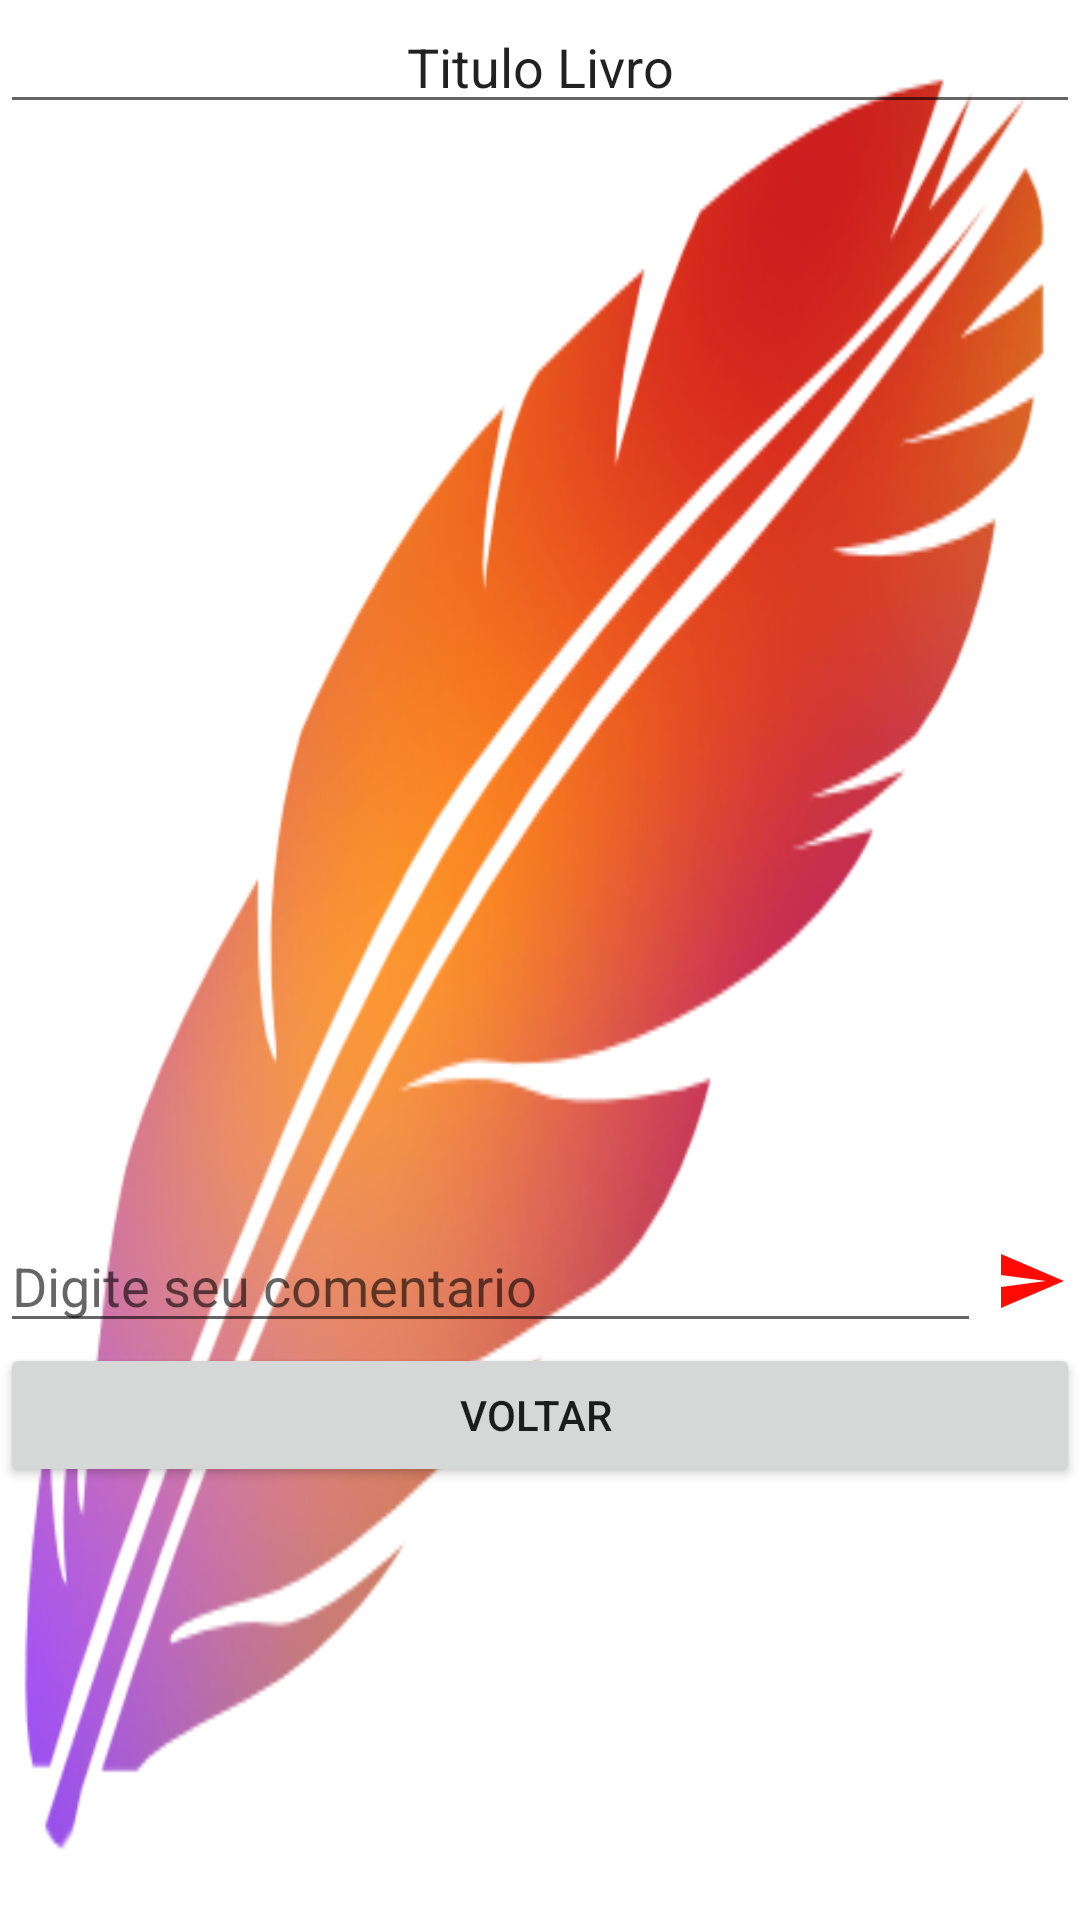

Icons on this 1080×1920 Android screen, each with its box as bbox=(x1, y1, x2, y2):
Enviar: bbox=(1001, 1254, 1064, 1308)
